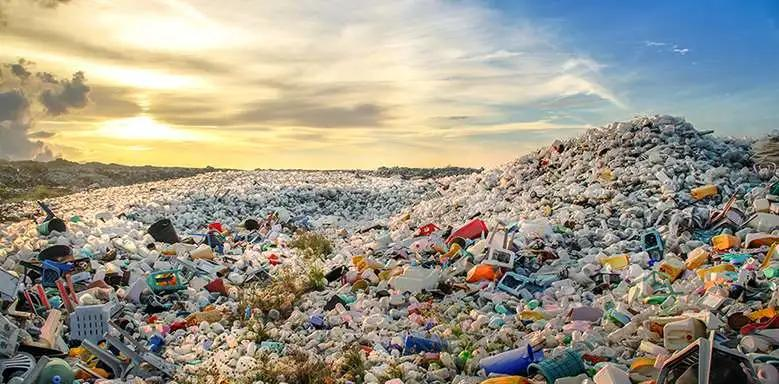garbage: (0, 109, 779, 384)
